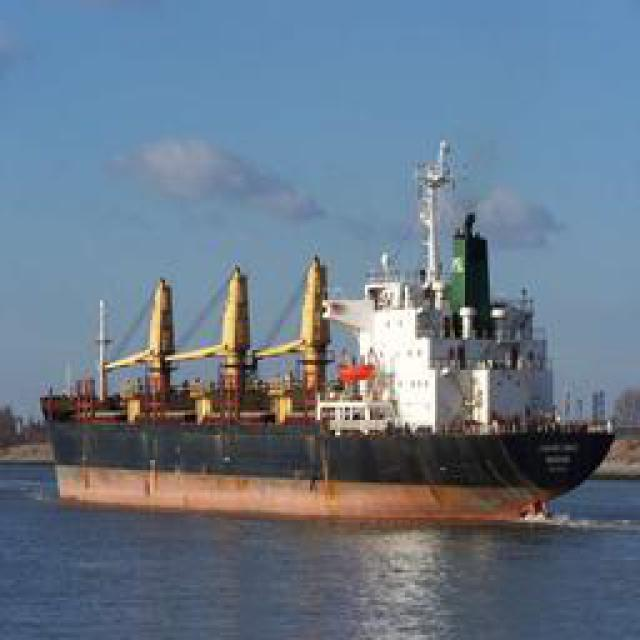Ship: (37, 133, 625, 521)
